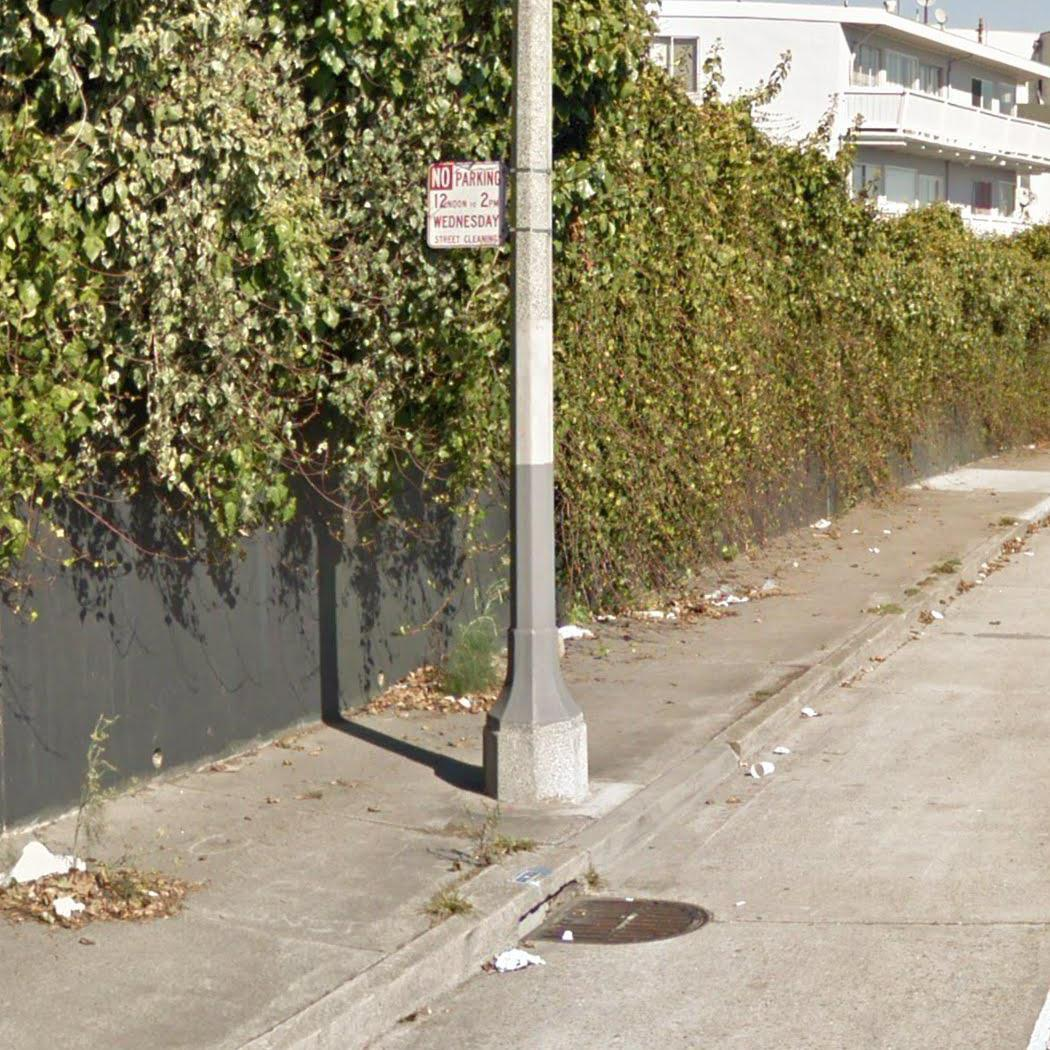No Parking: (422, 159, 510, 252)
